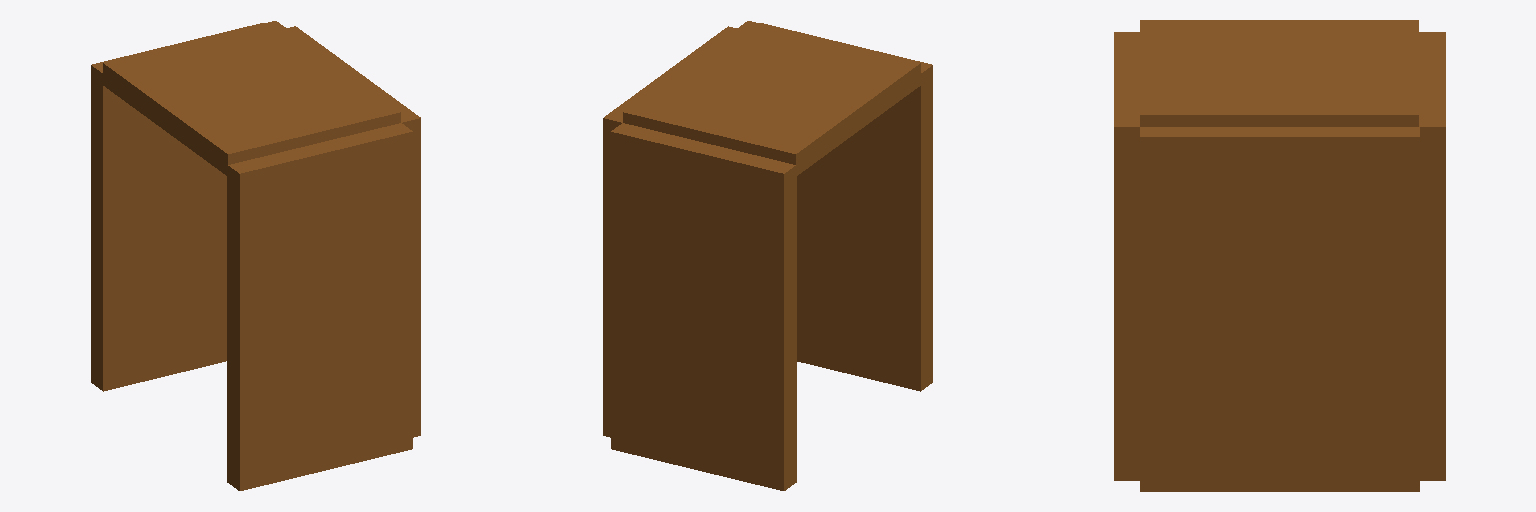
The robot description file, URDF, robot "dummy":
<?xml version="1.0"?>
<robot name="dummy">
  <link name="bottom_wall">
    <visual>
      <origin xyz="0.0 0.0 0.14160885186379563" rpy="0 0 0"/>
      <geometry>
        <mesh filename="bottom_wall.obj" scale="1 1 1"/>
      </geometry>
      <material name="brown">
        <color rgba="0.6 0.4 0.2 1.0"/>
      </material>
    </visual>
    <collision>
      <origin xyz="0.0 0.0 0.14160885186379563" rpy="0 0 0"/>
      <geometry>
        <mesh filename="bottom_wall.obj" scale="1 1 1"/>
      </geometry>
    </collision>
  </link>

  <link name="left_wall">
    <visual>
      <origin xyz="0.0 -0.16941843442602764 0.0" rpy="0 0 0"/>
      <geometry>
        <mesh filename="vertical_wall.obj" scale="1 1 1"/>
      </geometry>
      <material name="brown">
        <color rgba="0.6 0.4 0.2 1.0"/>
      </material>
    </visual>
    <collision>
      <origin xyz="0.0 -0.16941843442602764 0.0" rpy="0 0 0"/>
      <geometry>
        <mesh filename="vertical_wall.obj" scale="1 1 1"/>
      </geometry>
    </collision>
  </link>

  <link name="right_wall">
    <visual>
      <origin xyz="0.0 0.16941843442602764 0.0" rpy="0 0 0"/>
      <geometry>
        <mesh filename="vertical_wall.obj" scale="1 1 1"/>
      </geometry>
      <material name="brown">
        <color rgba="0.6 0.4 0.2 1.0"/>
      </material>
    </visual>
    <collision>
      <origin xyz="0.0 0.16941843442602764 0.0" rpy="0 0 0"/>
      <geometry>
        <mesh filename="vertical_wall.obj" scale="1 1 1"/>
      </geometry>
    </collision>
  </link>

  <link name="back_wall">
    <visual>
      <origin xyz="0.13787020061440802 0.0 0.0" rpy="0 0 0"/>
      <geometry>
        <mesh filename="back_wall.obj" scale="1 1 1"/>
      </geometry>
      <material name="brown">
        <color rgba="0.6 0.4 0.2 1.0"/>
      </material>
    </visual>
    <collision>
      <origin xyz="0.13787020061440802 0.0 0.0" rpy="0 0 0"/>
      <geometry>
        <mesh filename="back_wall.obj" scale="1 1 1"/>
      </geometry>
    </collision>
  </link>

  <link name="top_wall">
    <visual>
      <origin xyz="0.0 0.0 0.41887263686465487" rpy="0 0 0"/>
      <geometry>
        <mesh filename="top_wall.obj" scale="1 1 1"/>
      </geometry>
      <material name="brown">
        <color rgba="0.6 0.4 0.2 1.0"/>
      </material>
    </visual>
    <collision>
      <origin xyz="0.0 0.0 0.41887263686465487" rpy="0 0 0"/>
      <geometry>
        <mesh filename="top_wall.obj" scale="1 1 1"/>
      </geometry>
    </collision>
  </link>

  <joint name="left_wall_joint" type="fixed">
    <origin xyz="0 0 0" rpy="0 0 0"/>
    <parent link="bottom_wall"/>
    <child link="left_wall"/>
  </joint>

  <joint name="right_wall_joint" type="fixed">
    <origin xyz="0 0 0" rpy="0 0 0"/>
    <parent link="bottom_wall"/>
    <child link="right_wall"/>
  </joint>

  <joint name="back_wall_joint" type="fixed">
    <origin xyz="0 0 0" rpy="0 0 0"/>
    <parent link="bottom_wall"/>
    <child link="back_wall"/>
  </joint>

  <joint name="top_wall_joint" type="fixed">
    <origin xyz="0 0 0" rpy="0 0 0"/>
    <parent link="bottom_wall"/>
    <child link="top_wall"/>
  </joint>

</robot>

--- What the picture shows (computed from the rendered views, not written in the file) ---
Views: 3 orthographic renders of the robot side by side, from view 1: azimuth 30°, elevation 25°; view 2: azimuth 150°, elevation 25°; view 3: azimuth 270°, elevation 25°.
Robot: dummy — 5 links, 4 joints (4 fixed); root link bottom_wall; default pose: all joints at 0.
Visible links, largest first — view 1: left_wall, right_wall, top_wall, back_wall; view 2: right_wall, left_wall, top_wall, back_wall; view 3: back_wall, top_wall, right_wall, left_wall.
Boxes of the visible links, x1,y1,x2,y2 form: left_wall: [227, 123, 412, 490]; right_wall: [91, 23, 263, 391]; top_wall: [103, 21, 400, 175]; back_wall: [287, 26, 420, 437]; right_wall: [611, 123, 796, 490]; left_wall: [761, 23, 932, 391]; top_wall: [623, 21, 920, 175]; back_wall: [603, 26, 736, 437]; back_wall: [1140, 126, 1419, 491]; top_wall: [1140, 20, 1418, 126]; right_wall: [1419, 32, 1445, 480]; left_wall: [1114, 32, 1139, 480].
Bounding box of the posed robot: 0.277 × 0.3699 × 0.4496 m (x, y, z).
Meshes: 4 distinct files referenced, 4 mesh visuals loaded (3 OBJ); not drawn: 1 (reference not matched to a file when rendering).
